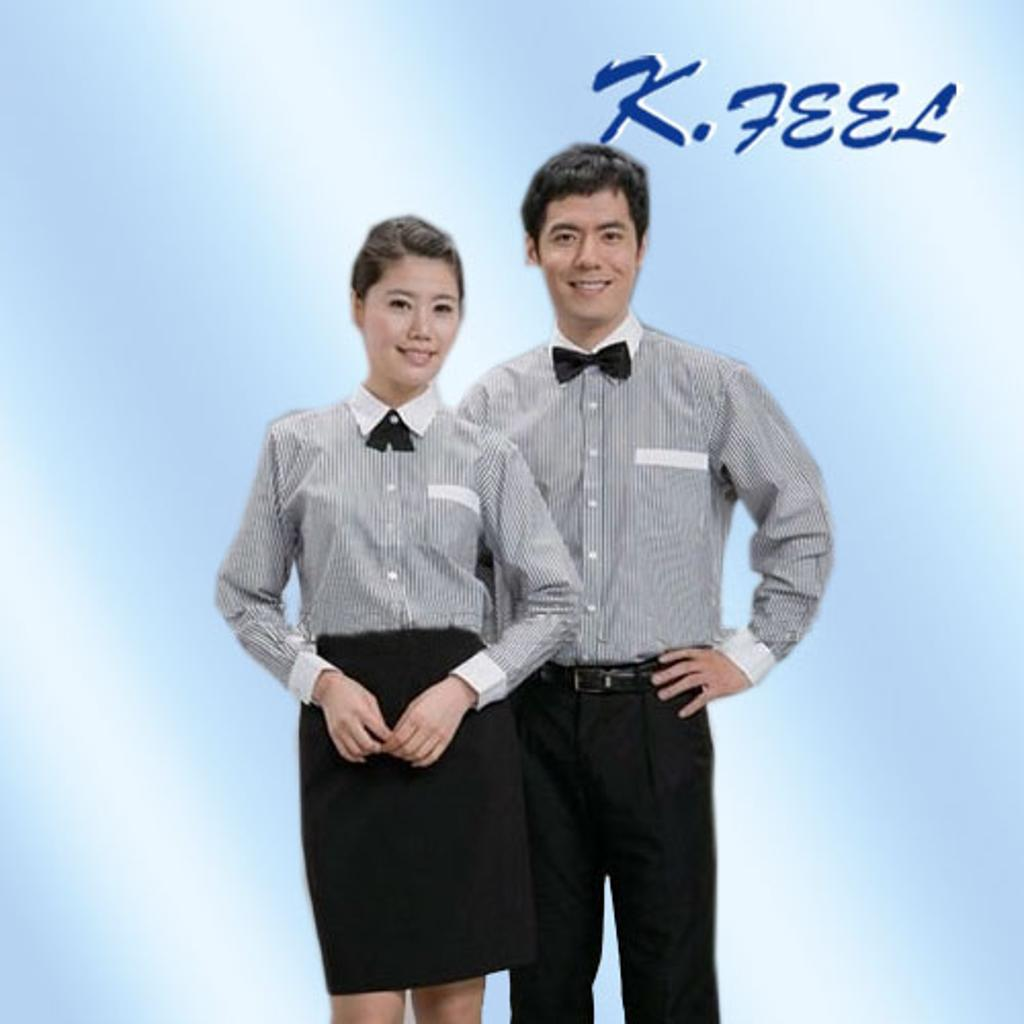face: (540, 170, 638, 318), (364, 248, 460, 390)
